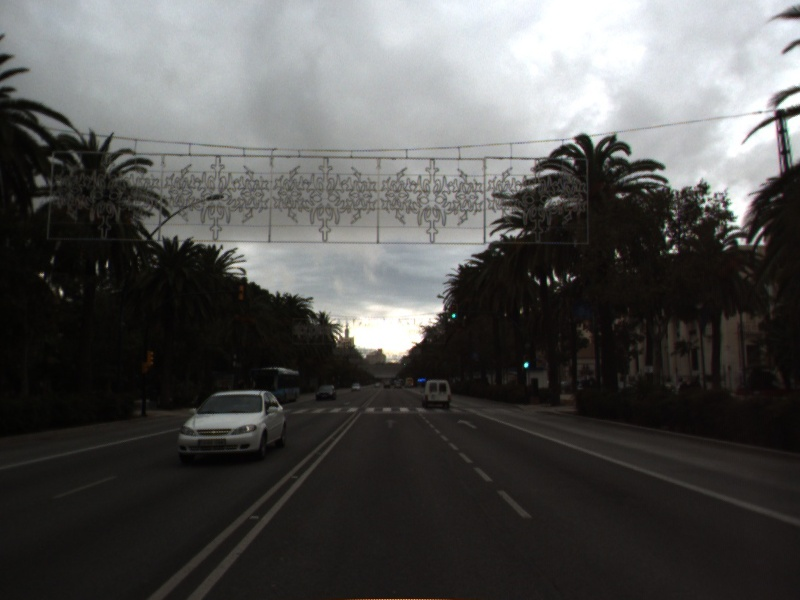STRAIGHT: (455, 417, 480, 431), (382, 417, 400, 431)
